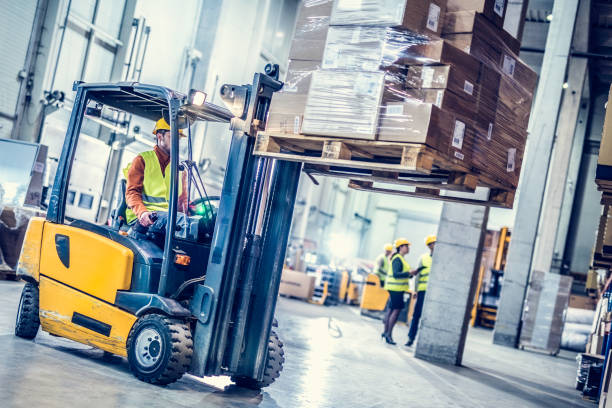unit_load: (258, 3, 532, 213)
